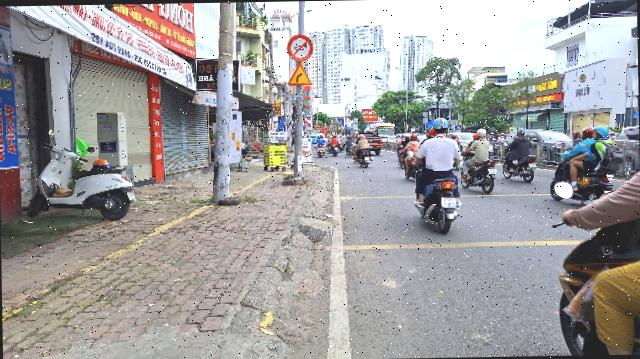cam-bop-coi: (287, 32, 314, 62)
cho-ngoat-nguy-hiem-ben-trai: (288, 62, 312, 85)
